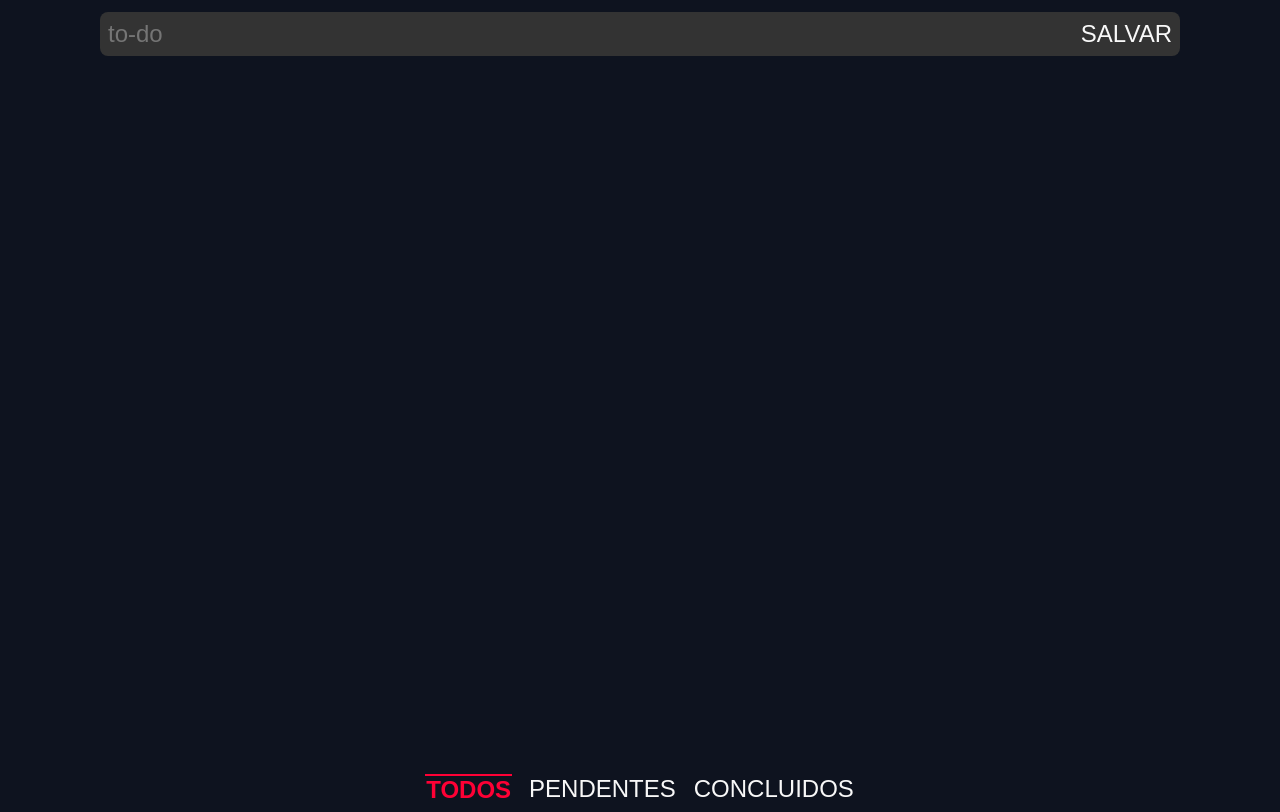
Test case: Todos page spec › should be able to create an todo
The width and height of the screenshot is (1280, 812).
Type "test 1" into the field with placeholder "to-do" at (587, 34), box [100,12,1073,56]
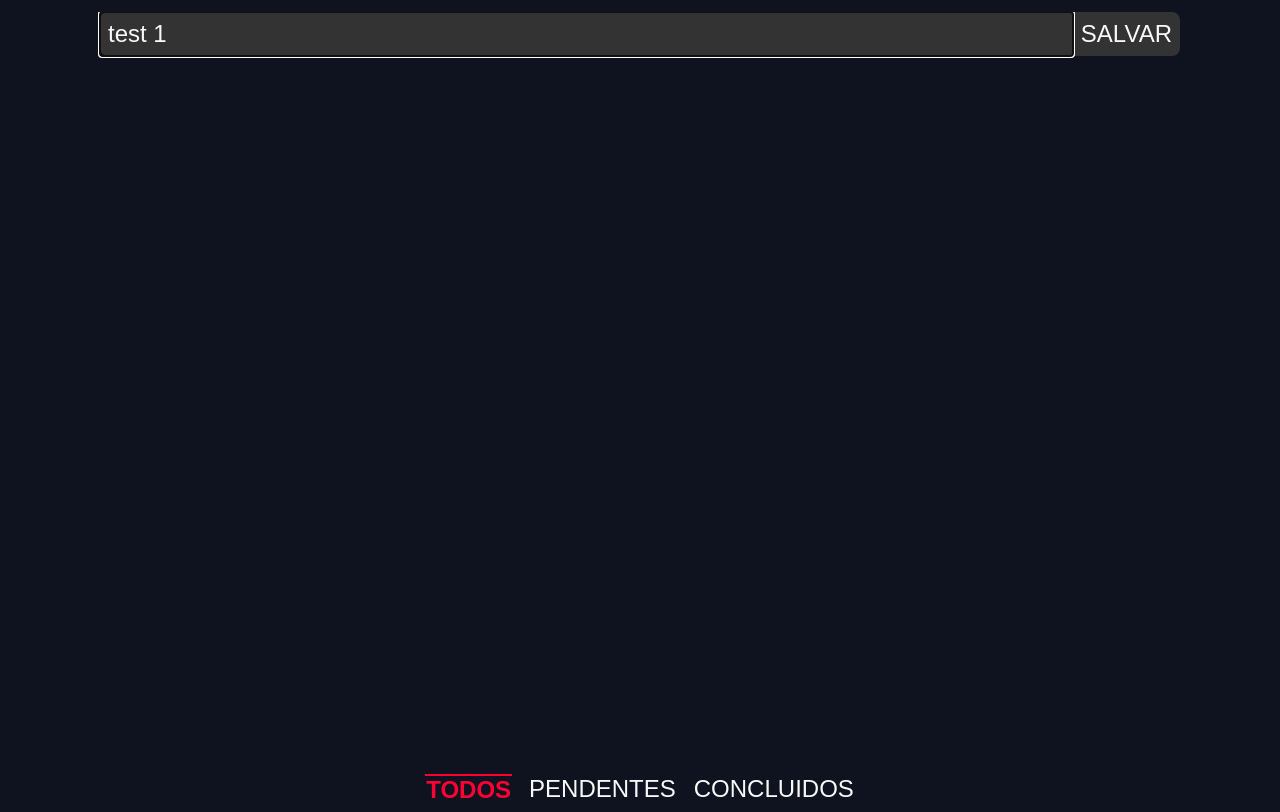
Click the button "Salvar" at (1127, 34), box [1073,12,1180,56]
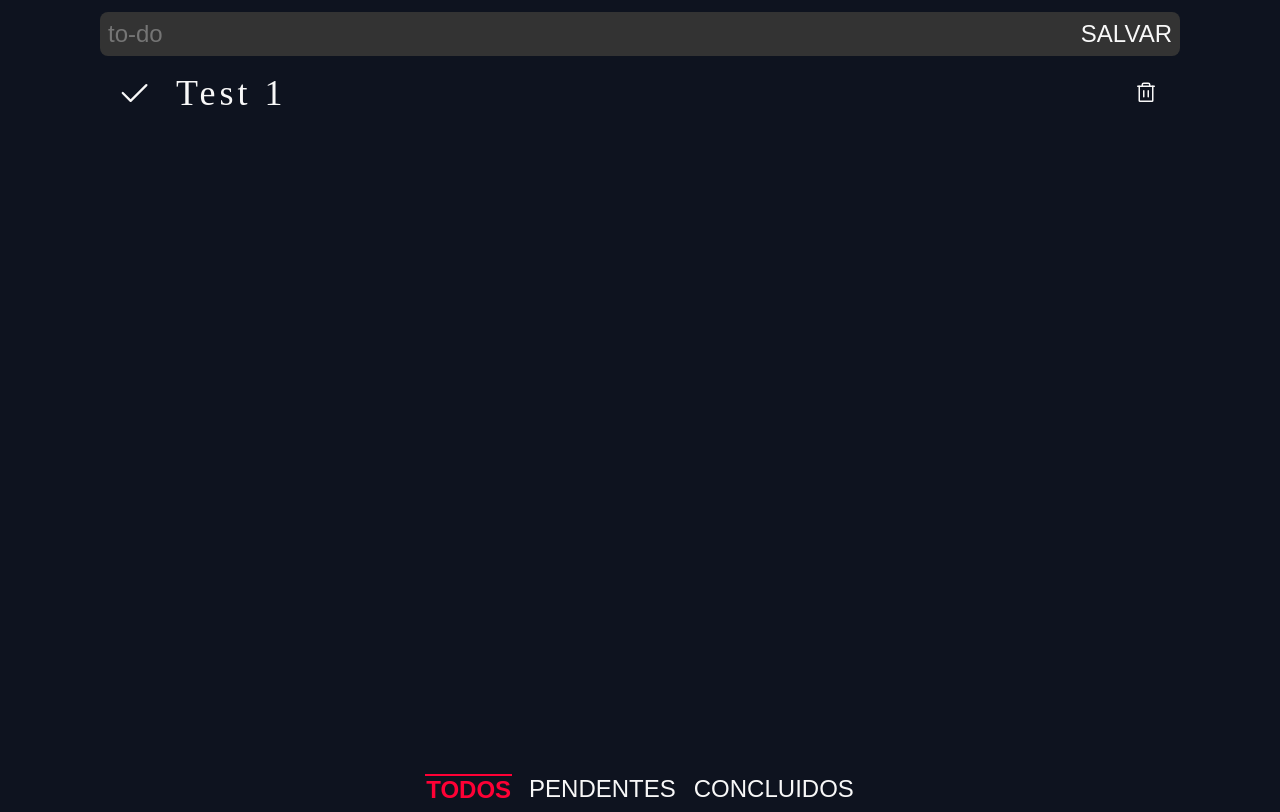
Check: the text "test 1" is shown, box [176,72,286,114]
